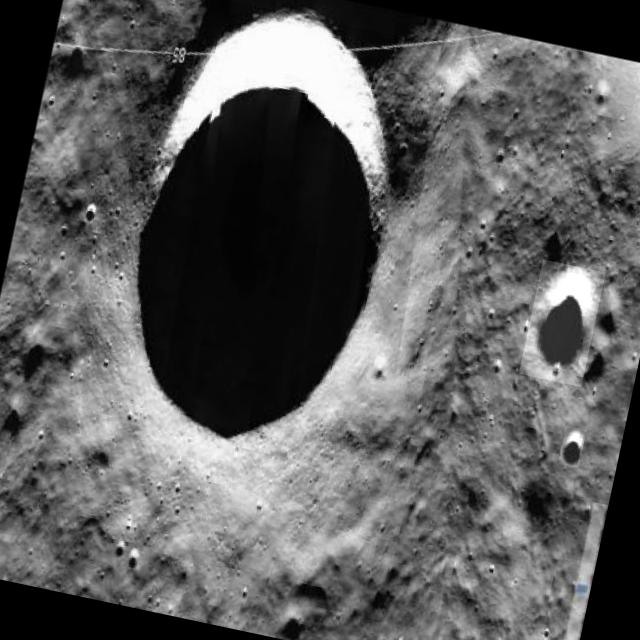crater: (97, 0, 426, 465), (518, 259, 605, 387), (557, 426, 586, 468)
